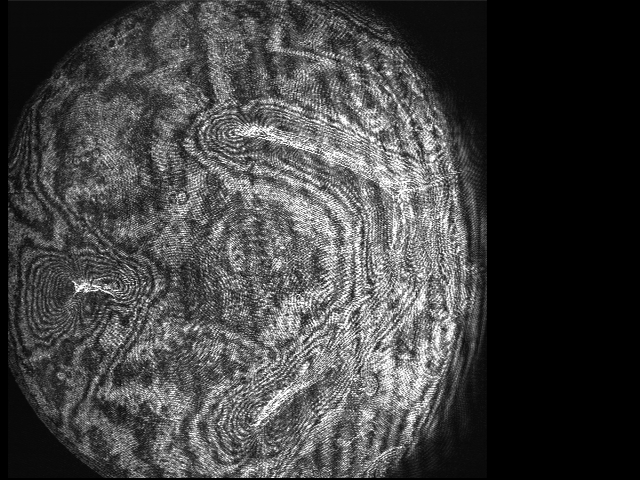plume: (8, 250, 152, 333)
